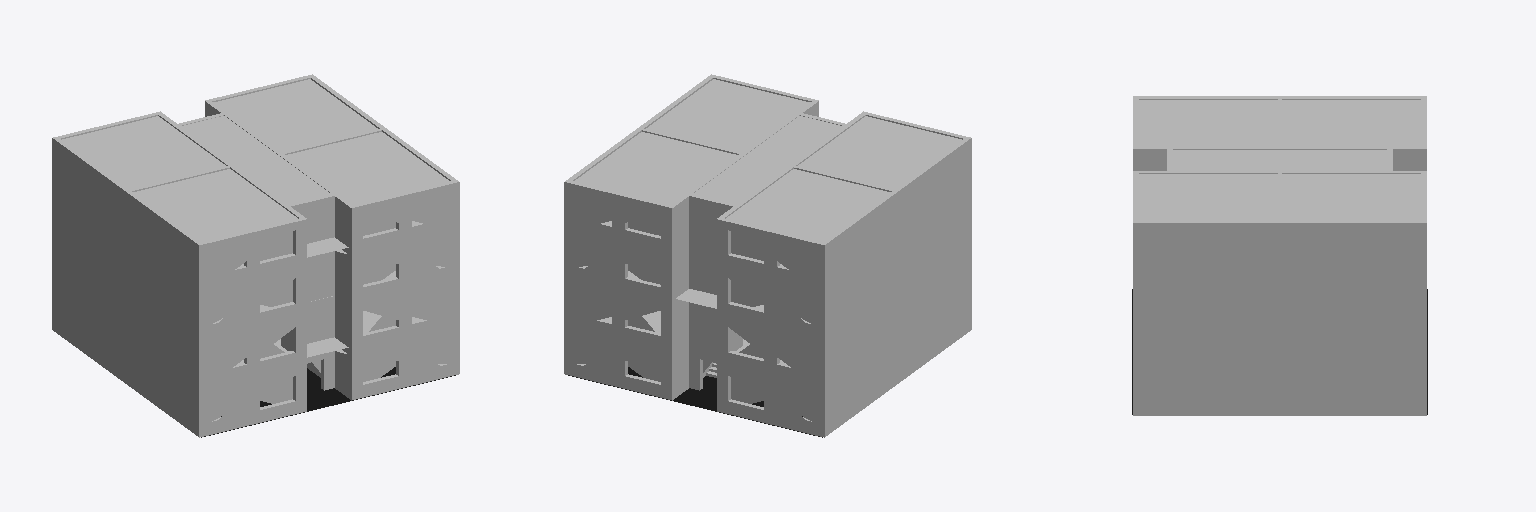
Rendered from FLat1.obj.
3 views of the same model, side by side, from view 1: azimuth 30°, elevation 25°; view 2: azimuth 150°, elevation 25°; view 3: azimuth 270°, elevation 25° (orthographic).
Visible parts, largest first — view 1: Front_Wall_Cube.002, Floor_4_Cube.023, Cube_Cube.024, Ground_Plane.001, Floor_1_Cube; view 2: Front_Wall_Cube.002, Floor_4_Cube.023, Cube_Cube.024, Ground_Plane.001, Floor_2_Cube.005; view 3: Front_Wall_Cube.002, Floor_4_Cube.023, Cube_Cube.024.
Boxes of the visible parts, <box> form: Front_Wall_Cube.002: <box>52,74,459,437</box>; Floor_4_Cube.023: <box>62,79,449,241</box>; Cube_Cube.024: <box>181,116,330,203</box>; Ground_Plane.001: <box>201,367,455,437</box>; Floor_1_Cube: <box>238,311,419,363</box>; Front_Wall_Cube.002: <box>564,74,971,437</box>; Floor_4_Cube.023: <box>574,79,961,241</box>; Cube_Cube.024: <box>693,116,842,203</box>; Ground_Plane.001: <box>568,367,822,437</box>; Floor_2_Cube.005: <box>586,266,801,318</box>; Front_Wall_Cube.002: <box>1133,96,1426,415</box>; Floor_4_Cube.023: <box>1139,100,1420,220</box>; Cube_Cube.024: <box>1173,150,1386,170</box>.
Size of the model in its own units: 106 by 75 by 105.